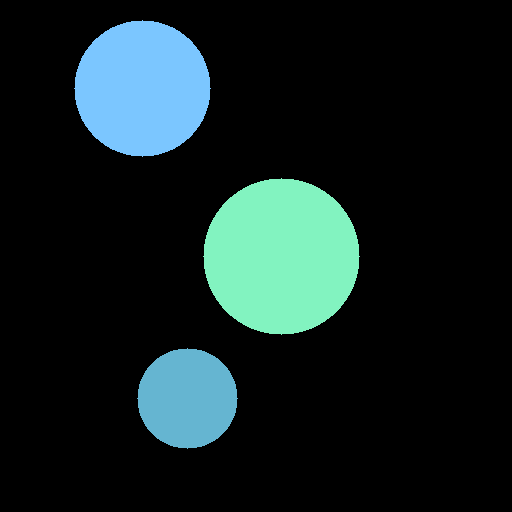circle: (203, 178, 359, 334), (74, 20, 210, 156), (137, 348, 237, 448)
